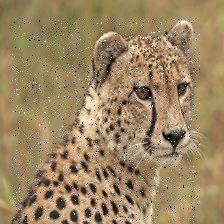Cheetha: (13, 20, 201, 224)
